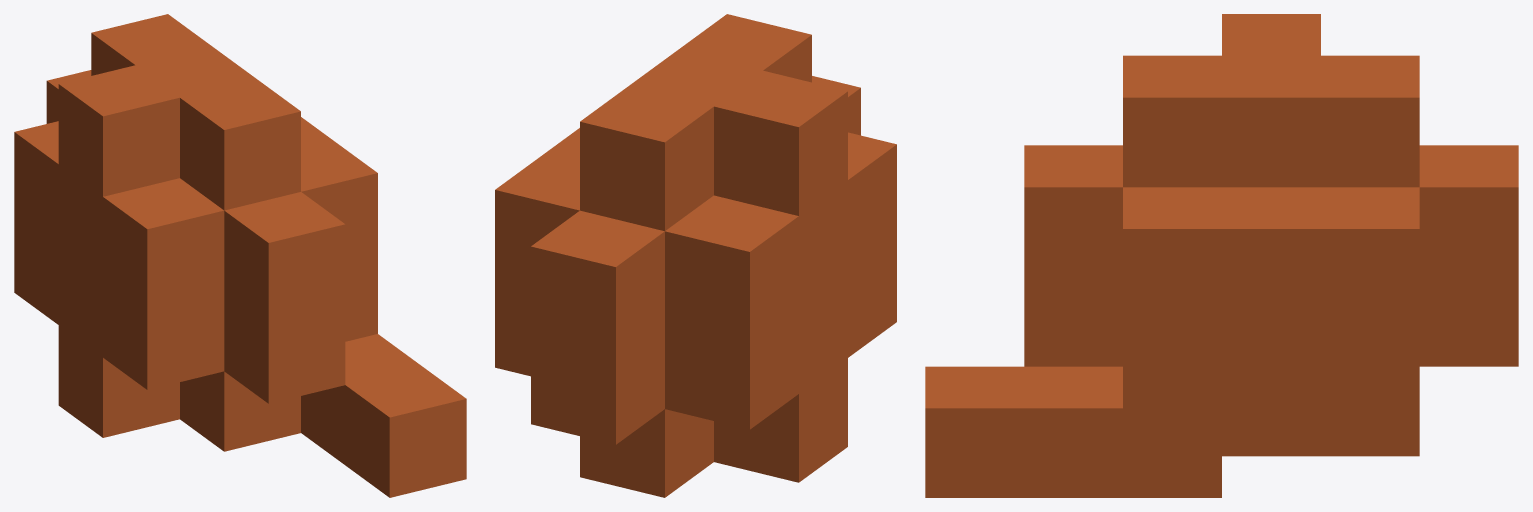
Rendered from squirrel__leg_br.glb.
3 renders of one model, left to right at view 1: azimuth 30°, elevation 25°; view 2: azimuth 150°, elevation 25°; view 3: azimuth 270°, elevation 25°, orthographic. The views are drawn at different scales.
Parts seen in each view (by area): view 1: squirrel__leg_br; view 2: squirrel__leg_br; view 3: squirrel__leg_br.
Part boxes in pixels (x1,y1,x2,y2): squirrel__leg_br: [14, 14, 466, 497]; squirrel__leg_br: [495, 14, 896, 497]; squirrel__leg_br: [925, 14, 1518, 497].
Size of the model in its own units: 0.3 by 0.4 by 0.6.
Materials: 1 (1 with a texture image).
